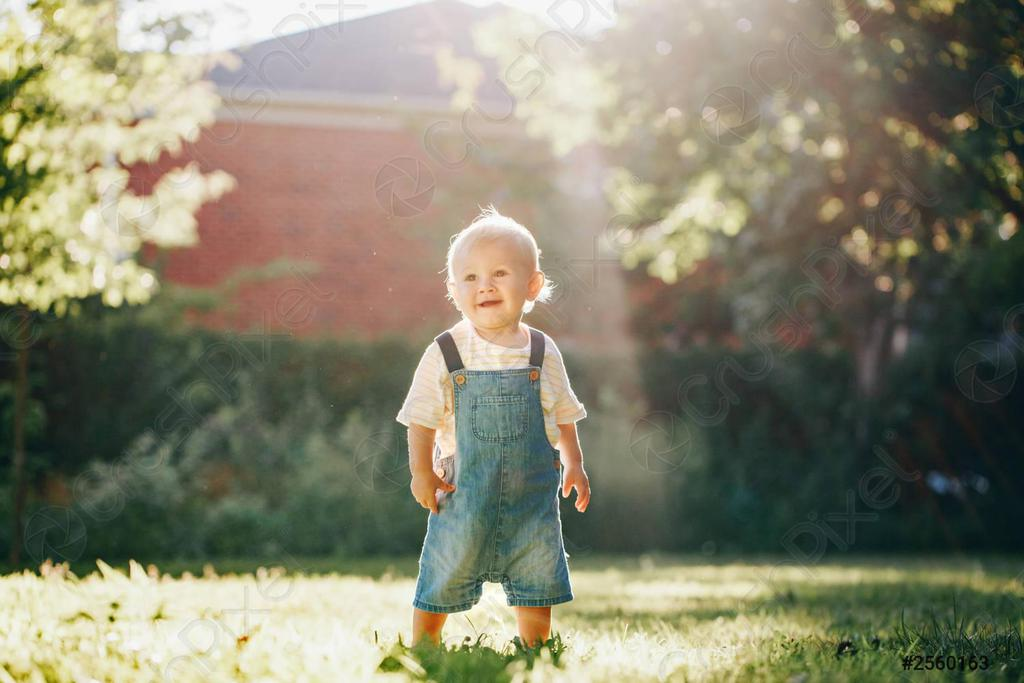child: (368, 194, 615, 665)
